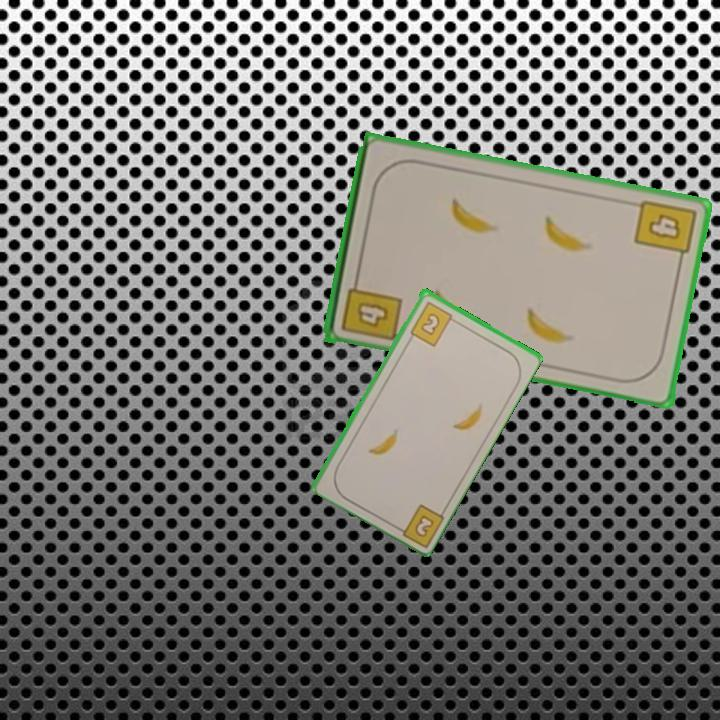2b: (406, 298, 460, 349), (390, 500, 446, 548)
4b: (631, 195, 699, 268), (337, 272, 405, 344)
